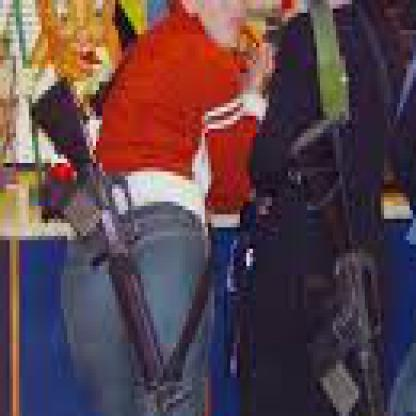gun: (161, 156, 234, 347)
